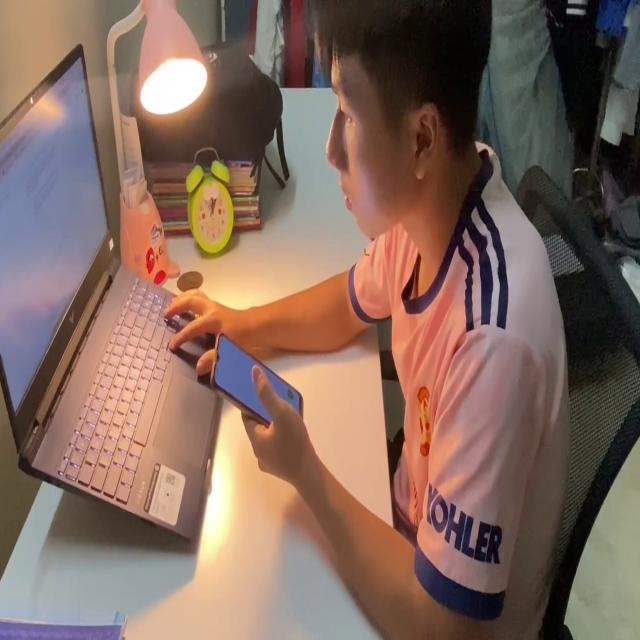laptop: (0, 38, 224, 548)
phone: (207, 327, 308, 434)
student: (164, 0, 571, 640)
